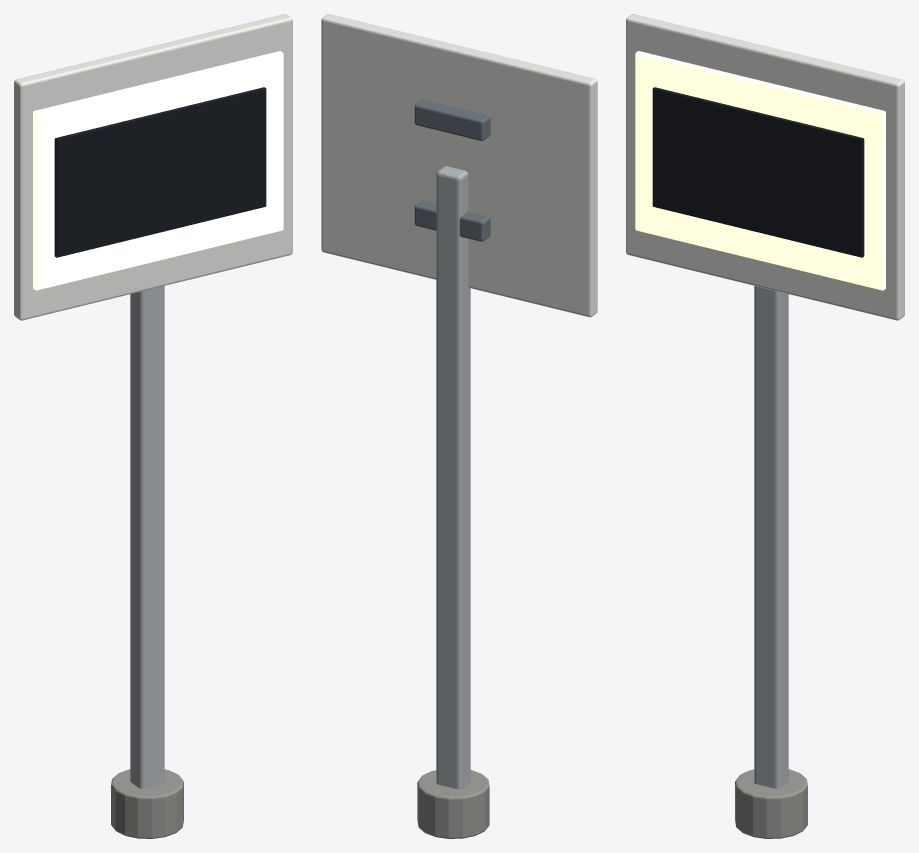
The model's file is prop_aqualume_wayfinding_sign_a_v01.glb.
The picture shows the model from 3 angles, left to right: view 1: azimuth 30°, elevation 25°; view 2: azimuth 150°, elevation 25°; view 3: azimuth 330°, elevation 25°; orthographic projection.
Parts seen in each view (by area): view 1: component__border_or_lettering__inner_panel, component__sign_face__sign_face, component__border_or_lettering__border, component__support_post__support_post, component__support_post__footing; view 2: component__sign_face__sign_face, component__support_post__support_post, component__support_post__footing, component__mounting_brackets__mounting_bracket, component__mounting_brackets__mounting_bracket.001; view 3: component__border_or_lettering__inner_panel, component__sign_face__sign_face, component__border_or_lettering__border, component__support_post__support_post, component__support_post__footing.
Boxes of the visible parts, box(x1,y1,x2,y2) form: component__border_or_lettering__inner_panel: box(54, 87, 266, 257); component__sign_face__sign_face: box(14, 14, 292, 320); component__border_or_lettering__border: box(33, 51, 283, 290); component__support_post__support_post: box(130, 286, 164, 788); component__support_post__footing: box(111, 769, 183, 838); component__sign_face__sign_face: box(321, 14, 597, 317); component__support_post__support_post: box(436, 166, 470, 789); component__support_post__footing: box(417, 770, 489, 838); component__mounting_brackets__mounting_bracket: box(414, 99, 490, 140); component__mounting_brackets__mounting_bracket.001: box(414, 200, 490, 241); component__border_or_lettering__inner_panel: box(652, 87, 864, 257); component__sign_face__sign_face: box(626, 14, 904, 320); component__border_or_lettering__border: box(635, 51, 885, 290); component__support_post__support_post: box(754, 286, 788, 788); component__support_post__footing: box(735, 769, 807, 838).
Bounding box in the file's own units: 0.946 × 2.58 × 0.22.
